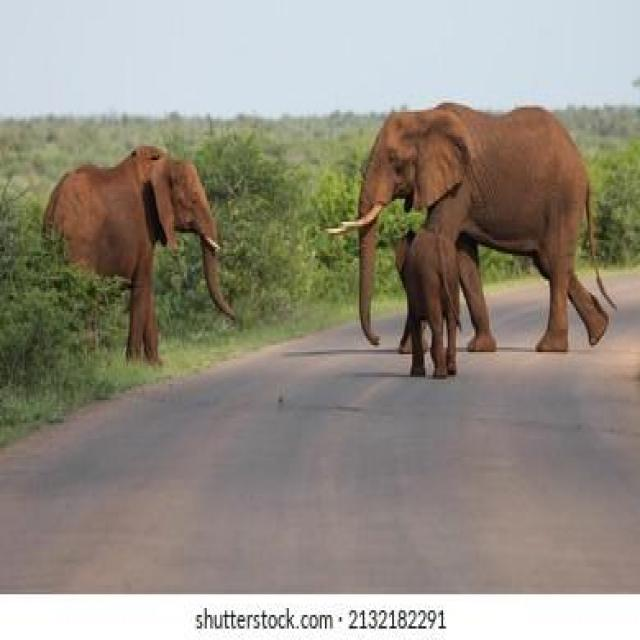Elephant: (327, 84, 628, 356), (28, 132, 241, 367), (389, 219, 479, 392)
